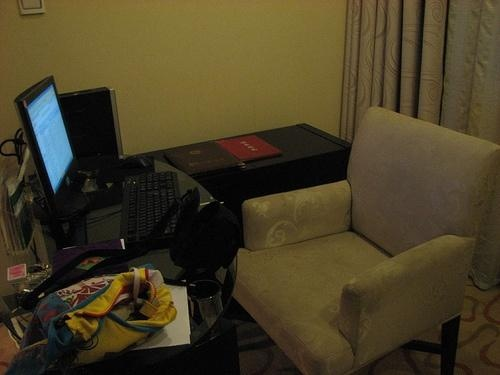chair: (216, 107, 500, 374)
tvmonitor: (12, 75, 80, 205)
